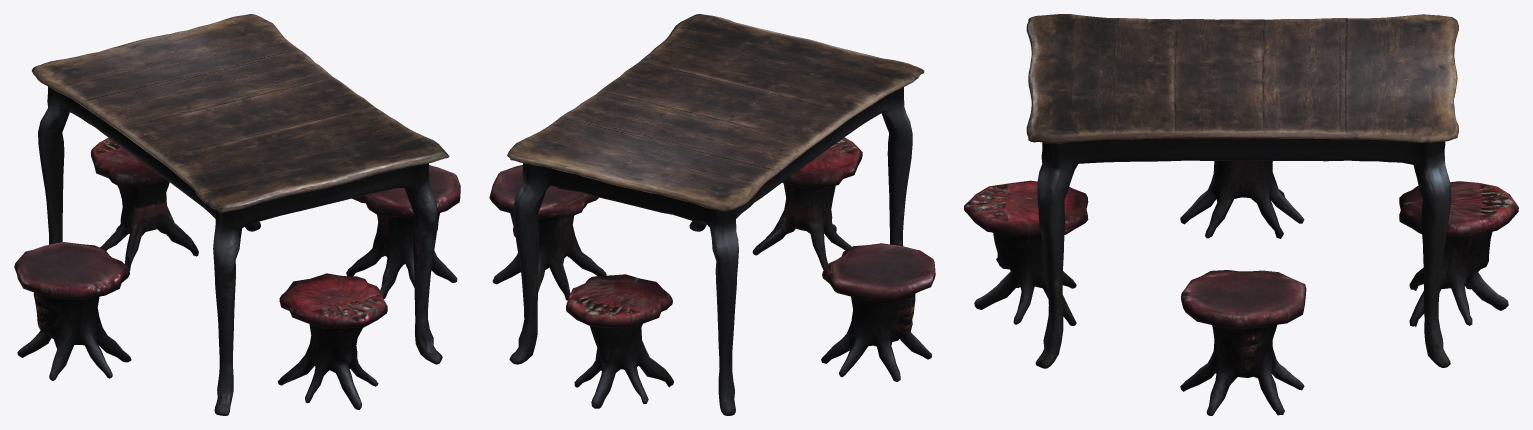
The model's file is Horror_and_creepy_tab_0124130159_texture.fbx.
The picture shows the model from 3 angles, left to right: view 1: azimuth 30°, elevation 25°; view 2: azimuth 150°, elevation 25°; view 3: azimuth 270°, elevation 25°; orthographic projection. The views are drawn at different scales.
Visible parts, largest first — view 1: Mesh1_Mesh1.006; view 2: Mesh1_Mesh1.006; view 3: Mesh1_Mesh1.006.
Part boxes in pixels (x1,y1,x2,y2): Mesh1_Mesh1.006: (14, 14, 460, 415); Mesh1_Mesh1.006: (489, 14, 935, 415); Mesh1_Mesh1.006: (964, 14, 1518, 415).
Size of the model in its own units: 2124 by 1000 by 2133.
Materials: 1 (1 with a texture image).
